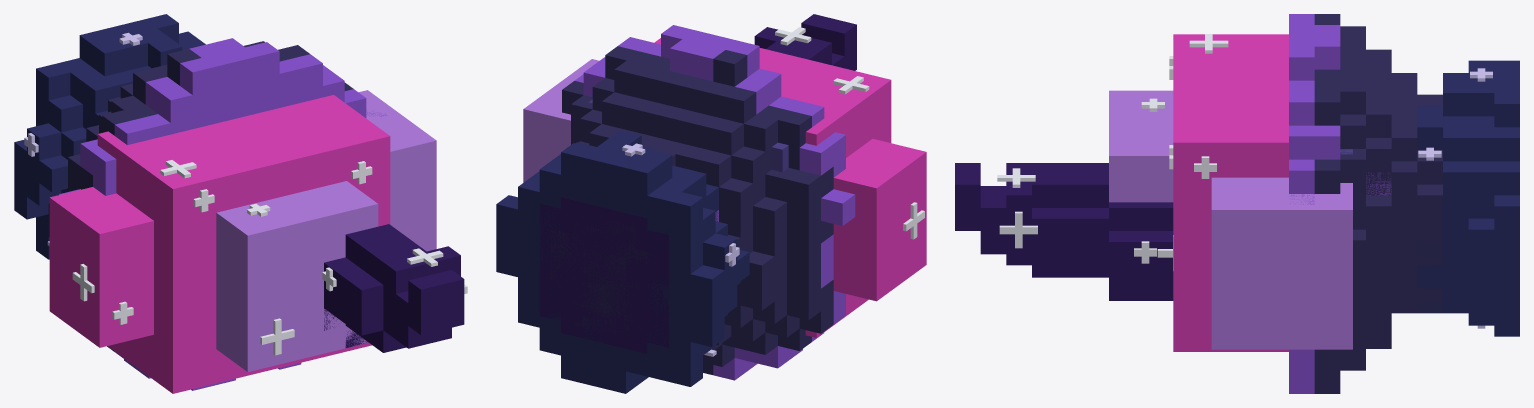
Rendered from Deco_Zona5.fbx.
3 views of the same model, side by side, from view 1: azimuth 30°, elevation 25°; view 2: azimuth 150°, elevation 25°; view 3: azimuth 270°, elevation 25° (orthographic). The views are drawn at different scales.
Parts seen in each view (by area): view 1: Arbol_Nebuloso_CopaFucsia, Arbol_Nebuloso_CopaLila, Pasto_Grande, Meteorito_Roca_Grande, Columna_Alta, Roca_Grande, Arbol_Nebuloso_Estrellas, Estrellas_Alta, Meteorito_Estrellas_Grande; view 2: Roca_Grande, Meteorito_Roca_Grande, Arbol_Nebuloso_CopaFucsia, Arbol_Nebuloso_Tronco, Columna_Alta, Pasto_Grande, Cristales_Abismo_Roca, Arbol_Nebuloso_CopaLila, Roca_Mediana, Arbol_Nebuloso_Estrellas, Meteorito_Estrellas_Grande, Arbol_Nebuloso_Sombra (+2 smaller); view 3: Arbol_Nebuloso_CopaLila, Roca_Grande, Arbol_Nebuloso_CopaFucsia, Meteorito_Roca_Grande, Columna_Alta, Pasto_Grande, Roca_Mediana, Estrellas_Alta, Arbol_Nebuloso_Estrellas, Meteorito_Estrellas_Grande.
Boxes of the visible parts, x1=… form: Arbol_Nebuloso_CopaFucsia: x1=49, y1=95, x2=390, y2=393; Arbol_Nebuloso_CopaLila: x1=216, y1=90, x2=436, y2=371; Pasto_Grande: x1=58, y1=38, x2=387, y2=390; Meteorito_Roca_Grande: x1=14, y1=14, x2=205, y2=259; Columna_Alta: x1=324, y1=224, x2=464, y2=352; Roca_Grande: x1=68, y1=41, x2=353, y2=351; Arbol_Nebuloso_Estrellas: x1=72, y1=160, x2=372, y2=355; Estrellas_Alta: x1=322, y1=248, x2=467, y2=293; Meteorito_Estrellas_Grande: x1=24, y1=32, x2=142, y2=245; Roca_Grande: x1=562, y1=46, x2=833, y2=374; Meteorito_Roca_Grande: x1=496, y1=130, x2=749, y2=393; Arbol_Nebuloso_CopaFucsia: x1=654, y1=38, x2=926, y2=337; Arbol_Nebuloso_Tronco: x1=539, y1=203, x2=668, y2=347; Columna_Alta: x1=539, y1=14, x2=856, y2=353; Pasto_Grande: x1=575, y1=25, x2=855, y2=380; Cristales_Abismo_Roca: x1=550, y1=213, x2=657, y2=334; Arbol_Nebuloso_CopaLila: x1=523, y1=59, x2=599, y2=182; Roca_Mediana: x1=580, y1=108, x2=752, y2=327; Arbol_Nebuloso_Estrellas: x1=833, y1=76, x2=924, y2=239; Meteorito_Estrellas_Grande: x1=622, y1=143, x2=739, y2=356; Arbol_Nebuloso_Sombra: x1=588, y1=99, x2=788, y2=172; Arbol_Nebuloso_CopaLila: x1=1109, y1=90, x2=1352, y2=349; Roca_Grande: x1=1314, y1=14, x2=1442, y2=393; Arbol_Nebuloso_CopaFucsia: x1=1173, y1=34, x2=1288, y2=351; Meteorito_Roca_Grande: x1=1417, y1=60, x2=1519, y2=336; Columna_Alta: x1=955, y1=163, x2=1173, y2=300; Pasto_Grande: x1=1289, y1=14, x2=1340, y2=393; Roca_Mediana: x1=1366, y1=71, x2=1416, y2=311; Estrellas_Alta: x1=997, y1=168, x2=1173, y2=270; Arbol_Nebuloso_Estrellas: x1=1141, y1=34, x2=1228, y2=178; Meteorito_Estrellas_Grande: x1=1418, y1=68, x2=1492, y2=328.
Size of the model in its own units: 8.76 by 7.84 by 12.32.
